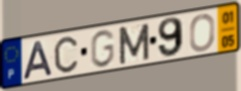9: (157, 16, 187, 60)
A: (20, 39, 55, 82)
C: (52, 34, 79, 74)
G: (89, 28, 117, 69)
M: (117, 21, 151, 66)
O: (188, 12, 216, 53)
